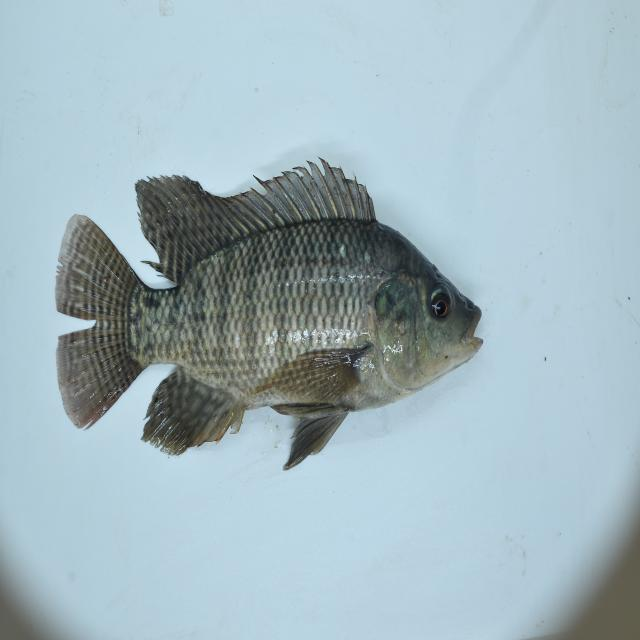Healthy Fish: (48, 159, 486, 476)
